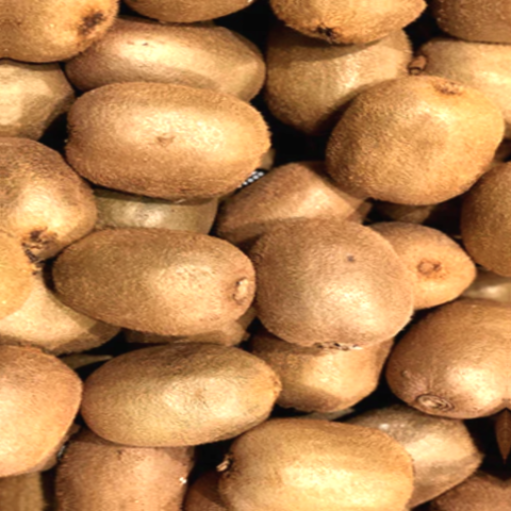kiwi: (239, 212, 423, 381), (310, 62, 511, 214), (86, 324, 292, 472), (49, 76, 278, 209), (39, 222, 267, 343), (225, 405, 425, 511)
